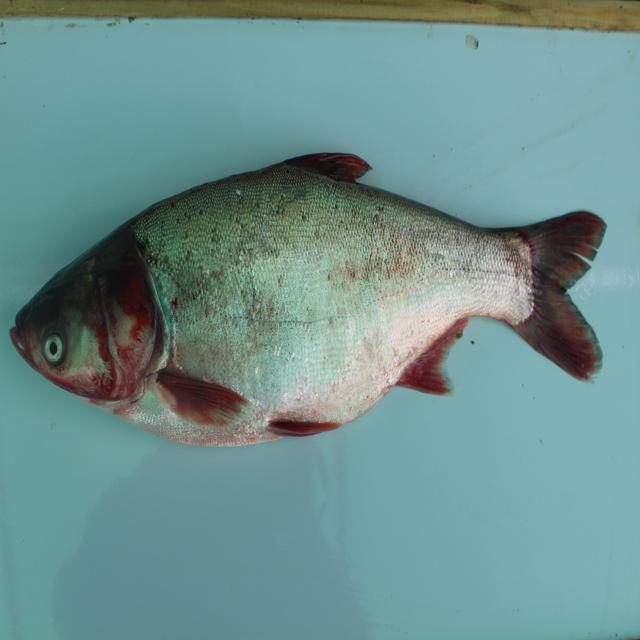SilverCarp: (9, 150, 622, 439)
